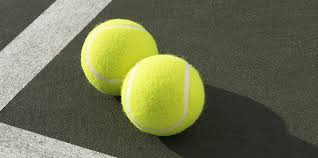tennis_ball: (119, 53, 206, 138), (80, 17, 159, 96)
